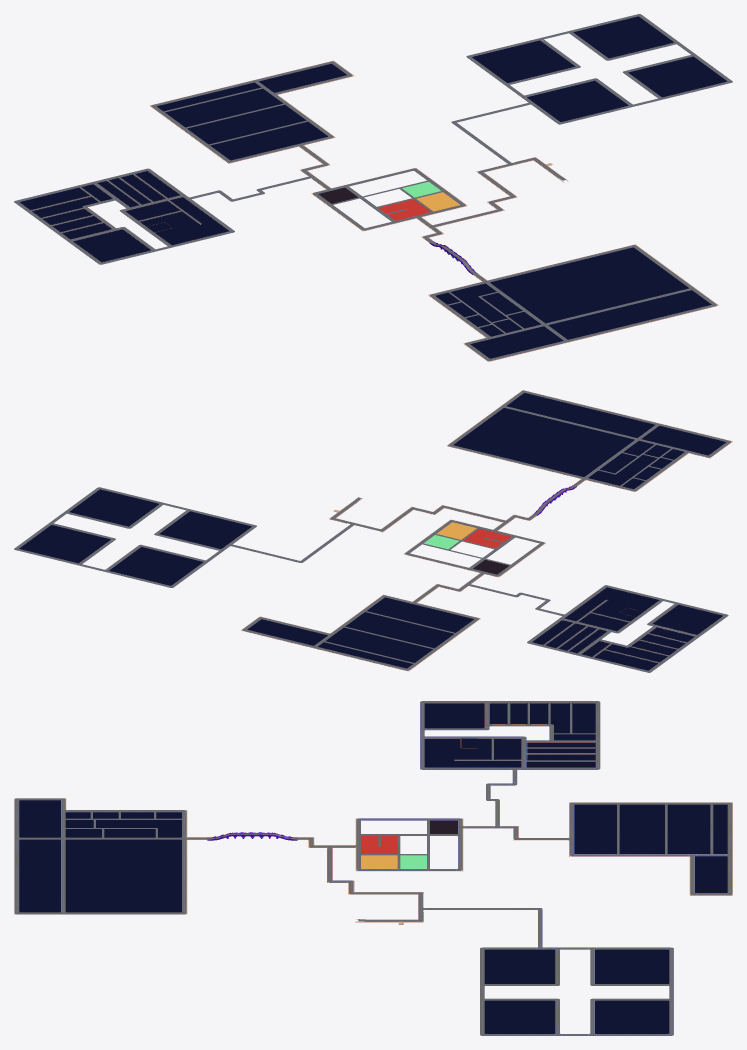
File: Main Base And Road.fbx
3 renders of one model, top to bottom at view 1: azimuth 30°, elevation 25°; view 2: azimuth 150°, elevation 25°; view 3: azimuth 270°, elevation 25°, orthographic. The views are drawn at different scales.
Visible parts, largest first — view 1: Base, Main_Base_and_Roads, Small_Roads, Footpath; view 2: Base, Main_Base_and_Roads, Footpath, Small_Roads; view 3: Base, Main_Base_and_Roads, Footpath, Small_Roads.
Boxes of the visible parts, x1,y1,x2,y2 form: Base: (19,16,727,358); Main_Base_and_Roads: (14,14,732,361); Small_Roads: (31,87,523,333); Footpath: (33,60,718,361); Base: (19,393,726,670); Main_Base_and_Roads: (14,390,731,672); Footpath: (241,390,732,671); Small_Roads: (324,444,686,663); Base: (19,703,727,1033); Main_Base_and_Roads: (14,701,732,1035); Footpath: (14,703,732,924); Small_Roads: (65,703,713,868).
Size of the model in its own units: 68060 by 561 by 61785.
